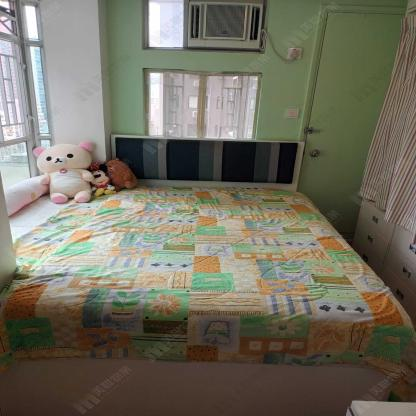AC: (186, 0, 264, 51)
Bed: (0, 182, 410, 416)
